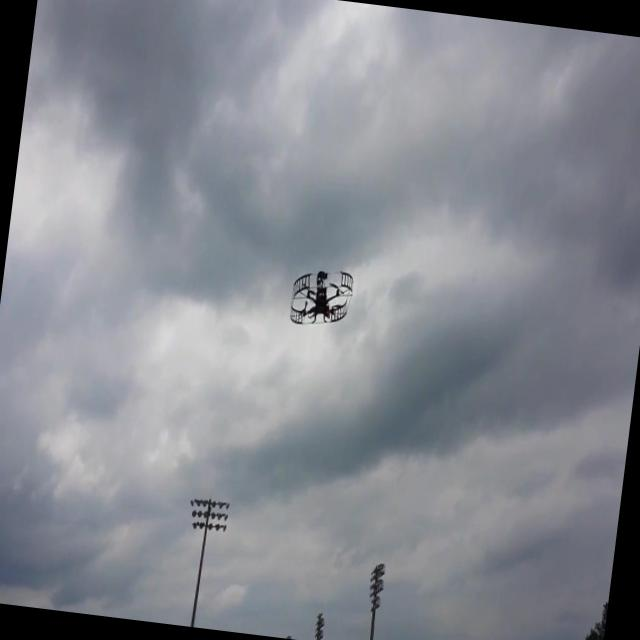drone: (287, 264, 355, 330)
